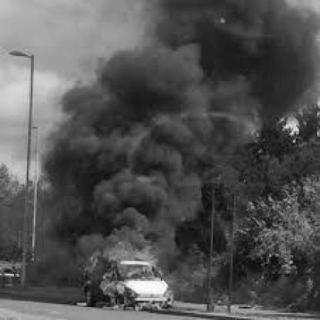Fire: (57, 216, 209, 312)
Smoke: (59, 43, 197, 221), (147, 2, 311, 132)
